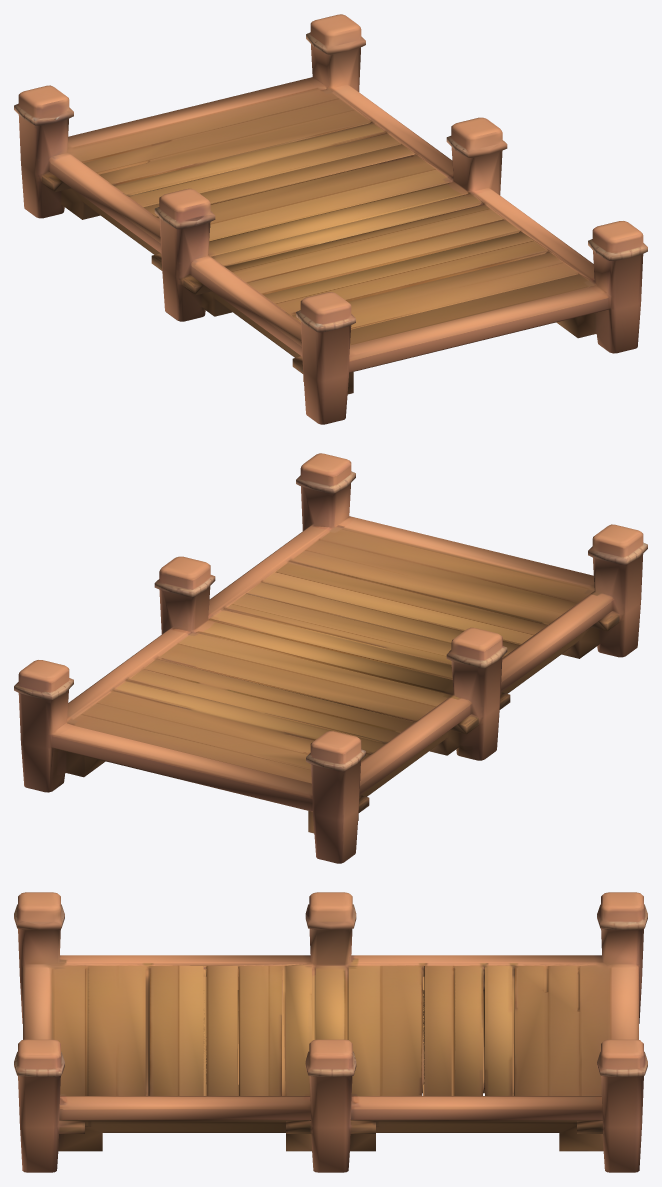
Rendered from Muelle.fbx.
The picture shows the model from 3 angles, top to bottom: view 1: azimuth 30°, elevation 25°; view 2: azimuth 150°, elevation 25°; view 3: azimuth 270°, elevation 25°; orthographic projection. The views are drawn at different scales.
Visible parts, largest first — view 1: mesh_rep_0_ori_repair_quad; view 2: mesh_rep_0_ori_repair_quad; view 3: mesh_rep_0_ori_repair_quad.
Part boxes in pixels (box(x1,y1,x2,y2)): mesh_rep_0_ori_repair_quad: box(14, 14, 647, 424); mesh_rep_0_ori_repair_quad: box(14, 453, 647, 863); mesh_rep_0_ori_repair_quad: box(14, 892, 647, 1172).
Bounding box in the file's own units: 1854 × 617 × 2944.
1 material, 1 textured.
